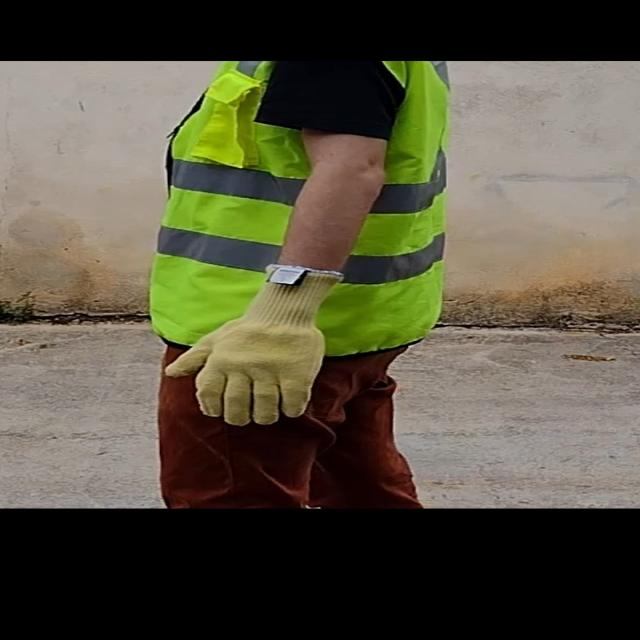glove: (163, 260, 344, 427)
pants: (145, 342, 430, 508)
vest: (148, 61, 467, 354)
